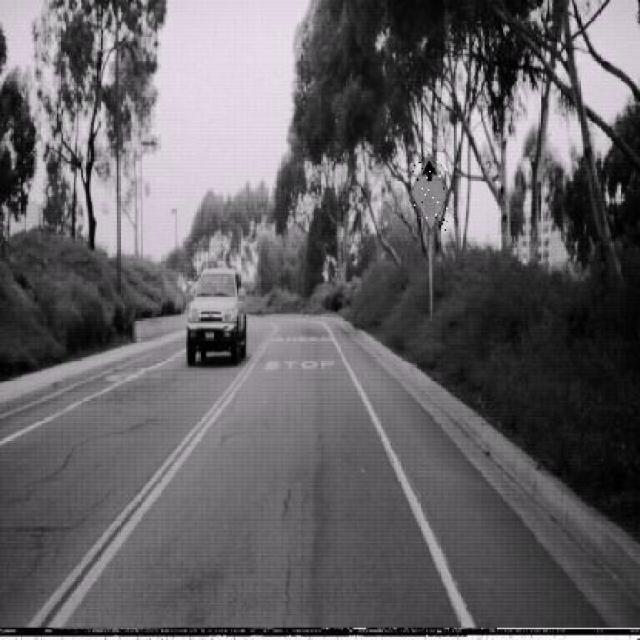stopAhead: (409, 154, 449, 234)
